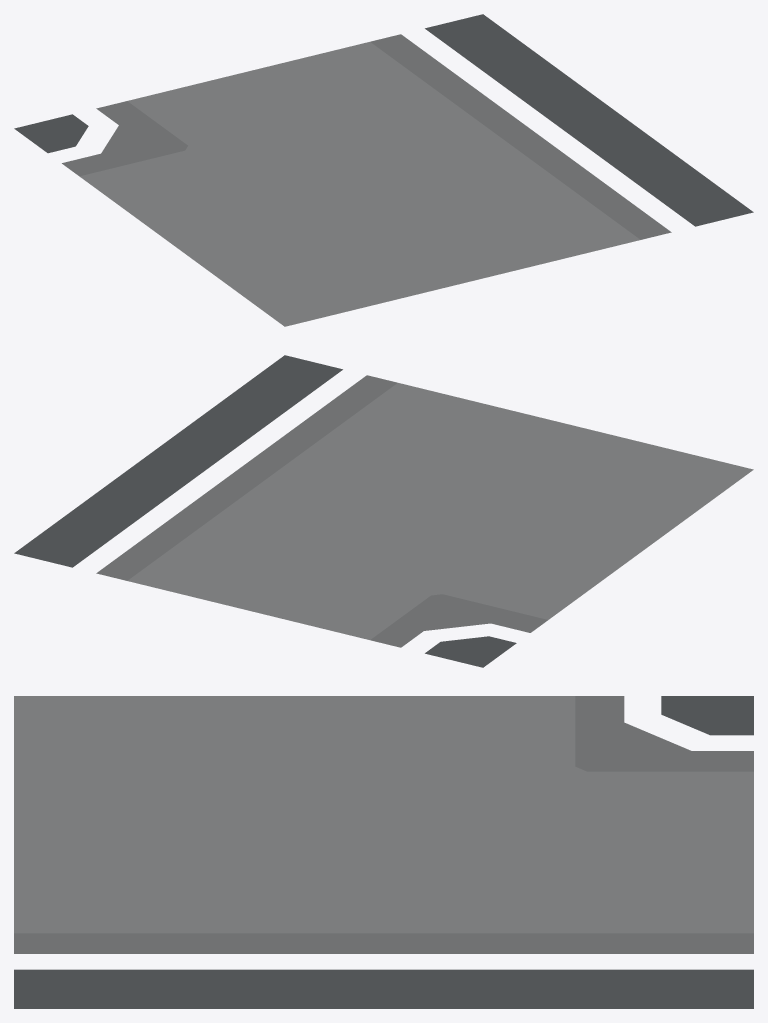
Rendered from Ceiling_type_B_026_003.glb.
3 renders of one model, top to bottom at view 1: azimuth 30°, elevation 25°; view 2: azimuth 150°, elevation 25°; view 3: azimuth 270°, elevation 25°, orthographic. The views are drawn at different scales.
Visible parts, largest first — view 1: Ceiling_type_B_026.003; view 2: Ceiling_type_B_026.003; view 3: Ceiling_type_B_026.003.
Boxes of the visible parts, <box> form: Ceiling_type_B_026.003: <box>14,14,753,326</box>; Ceiling_type_B_026.003: <box>14,355,753,667</box>; Ceiling_type_B_026.003: <box>14,696,753,1008</box>.
Bounding box in the file's own units: 4 × 0.0618 × 4.
Materials: 2 (2 with a texture image).
